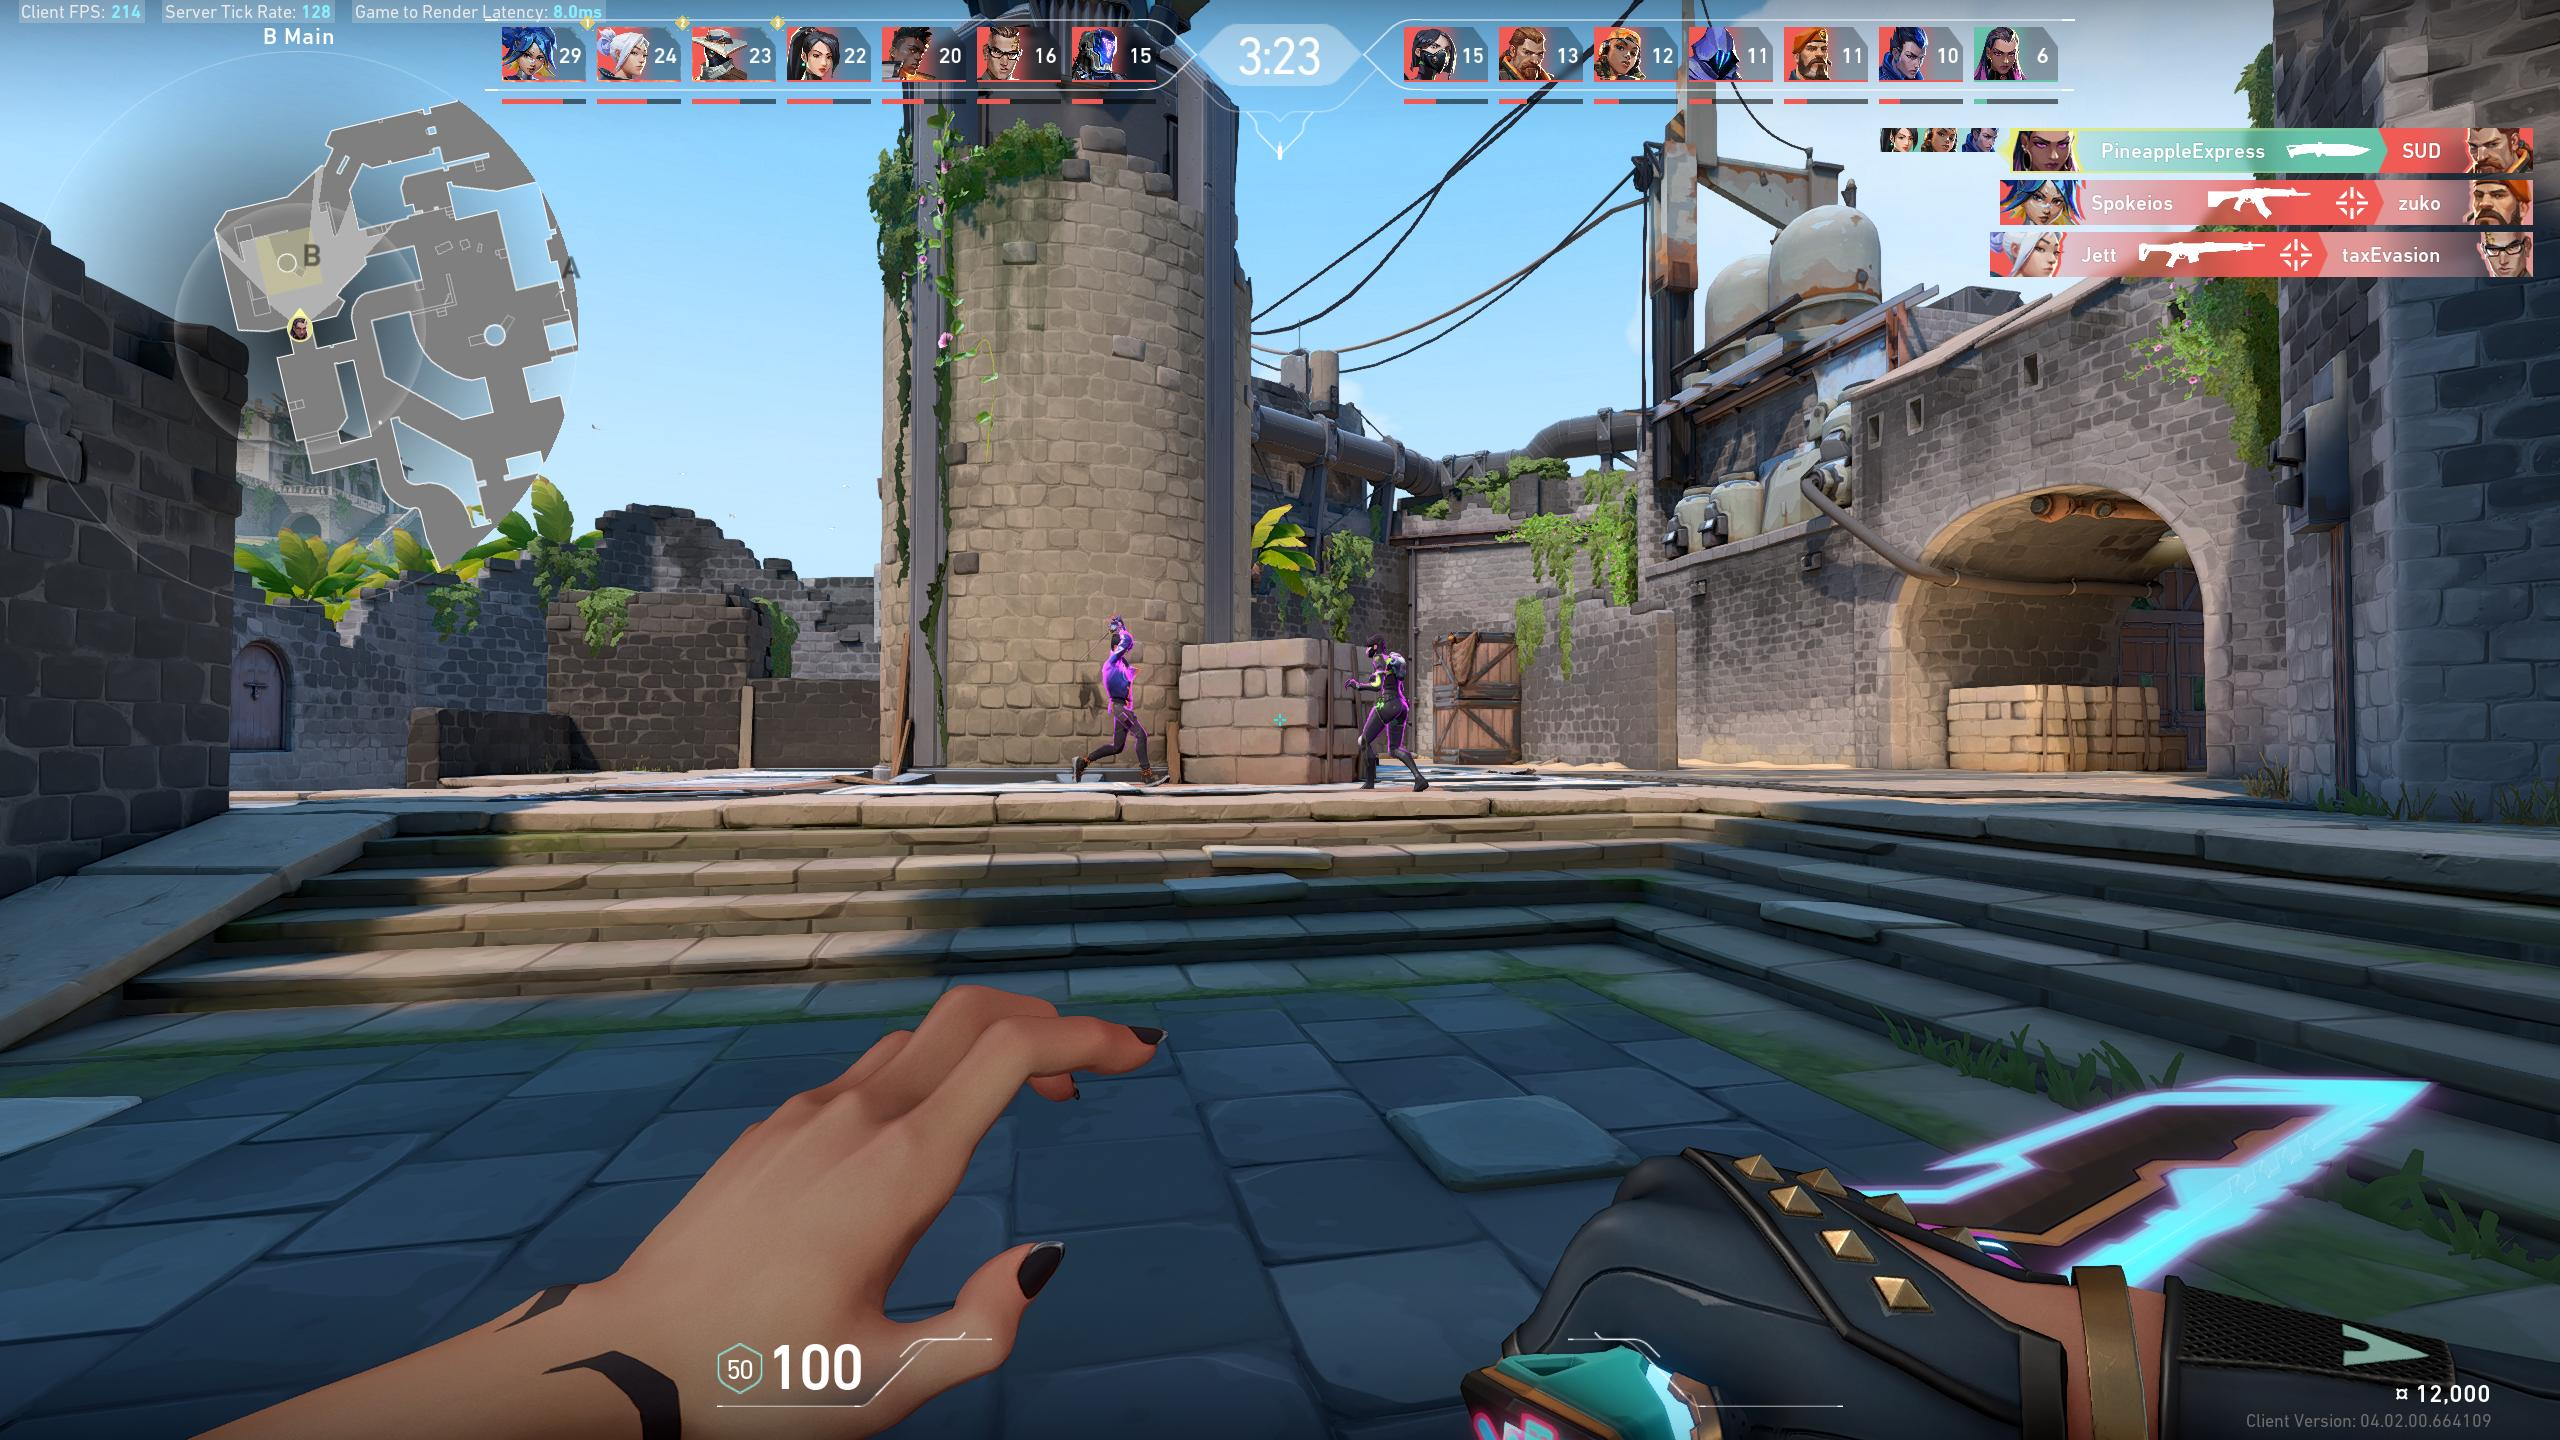enemyBody: (1380, 659, 1400, 698), (1111, 663, 1127, 698)
enemyHead: (1115, 636, 1125, 654), (1370, 640, 1384, 652)
